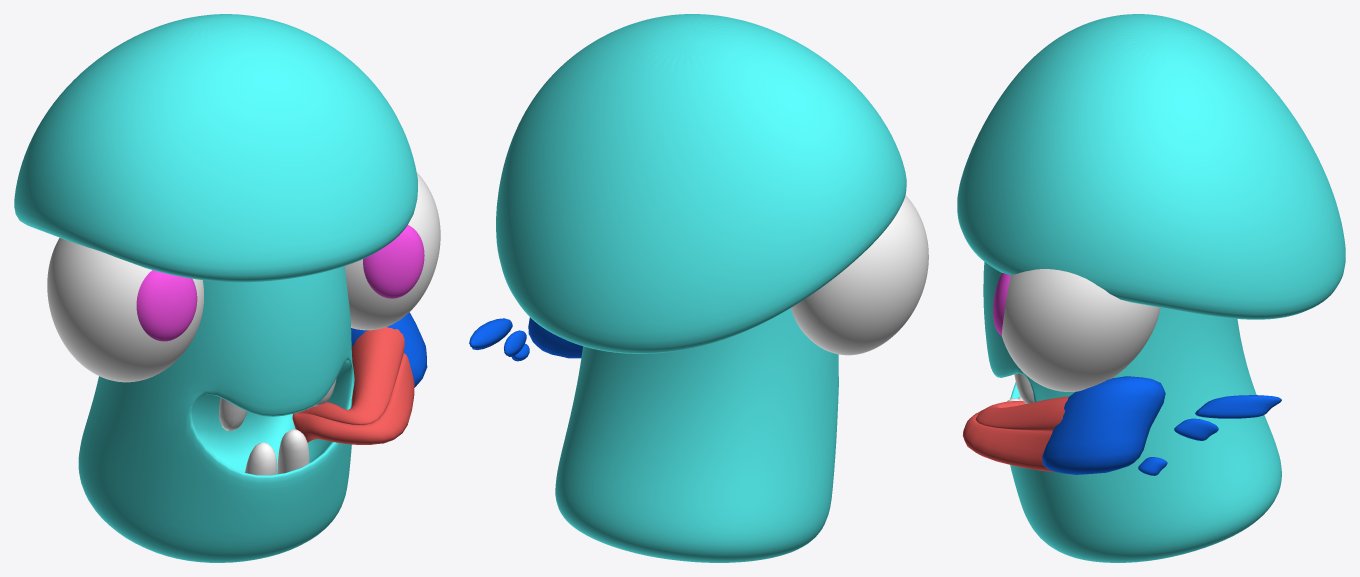
File: mushroom.gltf
The picture shows the model from 3 angles, left to right: view 1: azimuth 30°, elevation 25°; view 2: azimuth 150°, elevation 25°; view 3: azimuth 270°, elevation 25°; orthographic projection. The views are drawn at different scales.
Parts seen in each view (by area): view 1: MushroomCap.001_Sphere.003, MushroomBase.001_CubeOpenMesh.002, MushroomEyeRight.001_Sphere.005, Tongue.001_CubeOpenMesh1.003, MushroomEyeLeft.001_Sphere.004, Teeth.001_Plane.001, TongueSpit.001_CubeOpenMesh1.002; view 2: MushroomCap.001_Sphere.003, MushroomBase.001_CubeOpenMesh.002, MushroomEyeRight.001_Sphere.005, TongueSpit.001_CubeOpenMesh1.002; view 3: MushroomCap.001_Sphere.003, MushroomBase.001_CubeOpenMesh.002, MushroomEyeLeft.001_Sphere.004, TongueSpit.001_CubeOpenMesh1.002, Tongue.001_CubeOpenMesh1.003.
Part boxes in pixels (left/top/right/bottom): MushroomCap.001_Sphere.003: left=14, top=14, right=417, bottom=282; MushroomBase.001_CubeOpenMesh.002: left=78, top=266, right=354, bottom=562; MushroomEyeRight.001_Sphere.005: left=47, top=238, right=203, bottom=382; Tongue.001_CubeOpenMesh1.003: left=292, top=327, right=414, bottom=444; MushroomEyeLeft.001_Sphere.004: left=344, top=172, right=440, bottom=330; Teeth.001_Plane.001: left=219, top=378, right=336, bottom=475; TongueSpit.001_CubeOpenMesh1.002: left=351, top=312, right=427, bottom=387; MushroomCap.001_Sphere.003: left=496, top=14, right=906, bottom=353; MushroomBase.001_CubeOpenMesh.002: left=555, top=308, right=838, bottom=562; MushroomEyeRight.001_Sphere.005: left=791, top=195, right=928, bottom=355; TongueSpit.001_CubeOpenMesh1.002: left=469, top=317, right=582, bottom=361; MushroomCap.001_Sphere.003: left=957, top=14, right=1345, bottom=319; MushroomBase.001_CubeOpenMesh.002: left=983, top=262, right=1281, bottom=562; MushroomEyeLeft.001_Sphere.004: left=993, top=269, right=1160, bottom=391; TongueSpit.001_CubeOpenMesh1.002: left=1042, top=376, right=1281, bottom=475; Tongue.001_CubeOpenMesh1.003: left=962, top=396, right=1068, bottom=471.
Size of the model in its own units: 24.86 by 32.53 by 23.07.
